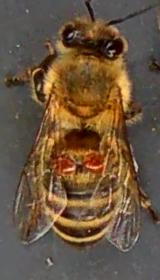varroa_mite: (53, 148, 78, 172), (81, 148, 106, 170)
